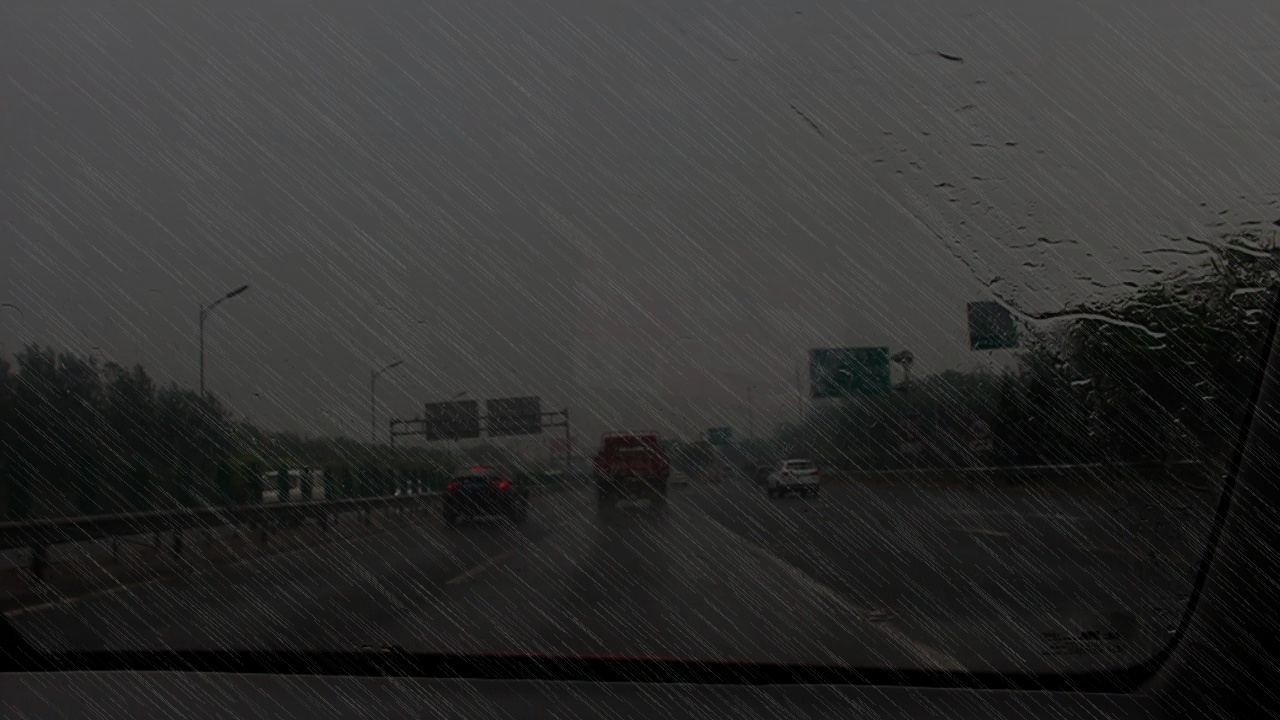Prohibitory Signs: (968, 416, 994, 441)
